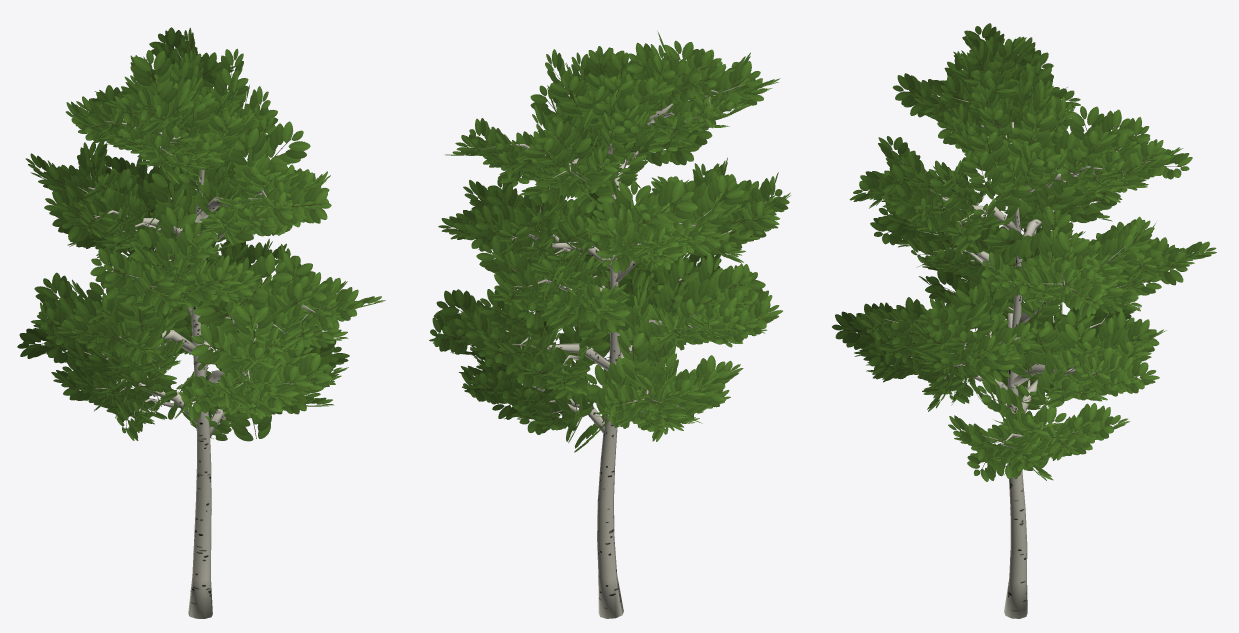
Rendered from birch.glb.
3 renders of one model, left to right at view 1: azimuth 30°, elevation 25°; view 2: azimuth 150°, elevation 25°; view 3: azimuth 270°, elevation 25°, orthographic. The views are drawn at different scales.
Visible parts, largest first — view 1: SM_birch_Foliage, SM_birch_BarkBranches; view 2: SM_birch_Foliage, SM_birch_BarkBranches; view 3: SM_birch_Foliage, SM_birch_BarkBranches.
Boxes of the visible parts, x1=… form: SM_birch_Foliage: x1=17, y1=27, x2=385, y2=441; SM_birch_BarkBranches: x1=78, y1=51, x2=348, y2=618; SM_birch_Foliage: x1=429, y1=31, x2=790, y2=452; SM_birch_BarkBranches: x1=458, y1=84, x2=766, y2=618; SM_birch_Foliage: x1=832, y1=23, x2=1216, y2=481; SM_birch_BarkBranches: x1=871, y1=67, x2=1181, y2=618.
Bounding box in the file's own units: 4.64 × 7.93 × 5.01.
2 materials, 2 textured.
